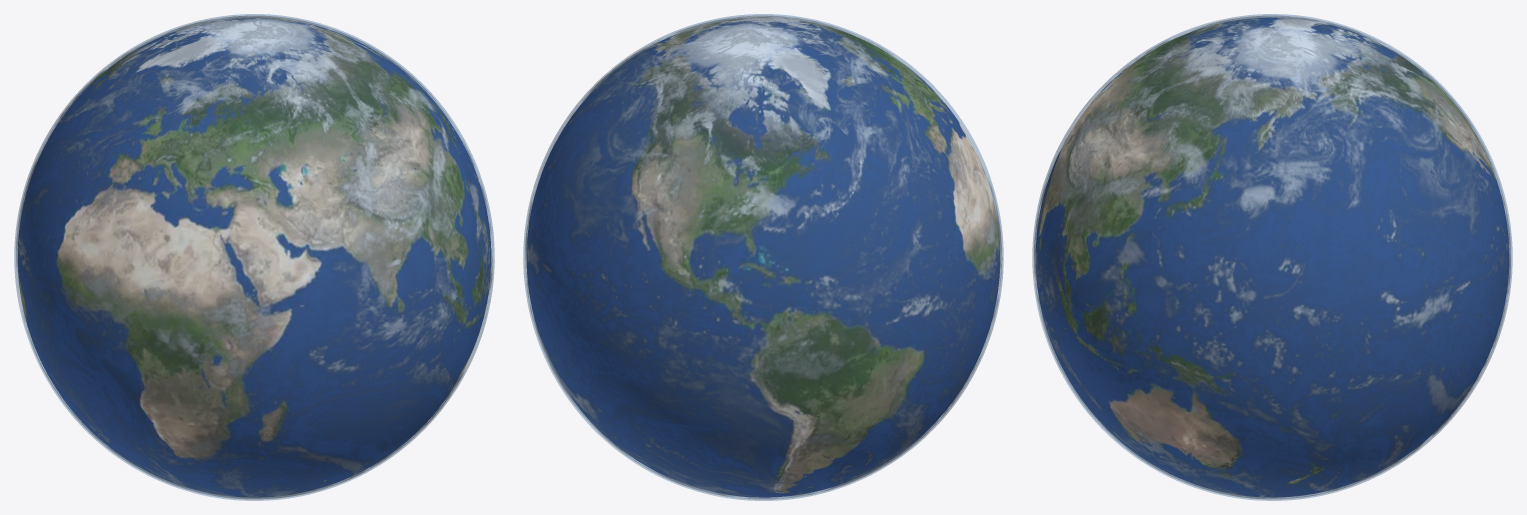
Rendered from terra.glb.
3 renders of one model, left to right at view 1: azimuth 30°, elevation 25°; view 2: azimuth 150°, elevation 25°; view 3: azimuth 270°, elevation 25°, orthographic.
Parts seen in each view (by area): view 1: pSphere5_lambert7_0, pSphere1_phong1_0, pSphere4_lambert6_0; view 2: pSphere5_lambert7_0, pSphere1_phong1_0, pSphere4_lambert6_0; view 3: pSphere5_lambert7_0, pSphere1_phong1_0, pSphere4_lambert6_0.
Boxes of the visible parts, x1,y1,x2,y2 form: pSphere5_lambert7_0: (14,14,494,500); pSphere1_phong1_0: (17,17,491,497); pSphere4_lambert6_0: (16,15,492,499); pSphere5_lambert7_0: (523,14,1003,500); pSphere1_phong1_0: (526,17,1000,497); pSphere4_lambert6_0: (525,15,1002,499); pSphere5_lambert7_0: (1032,14,1512,500); pSphere1_phong1_0: (1035,17,1509,497); pSphere4_lambert6_0: (1034,15,1510,499).
Size of the model in its own units: 192 by 196 by 192.
Materials: 3 (2 with a texture image).
